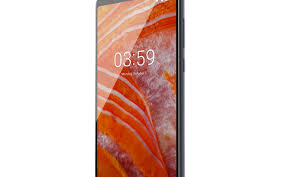nokia: (92, 1, 187, 176)
